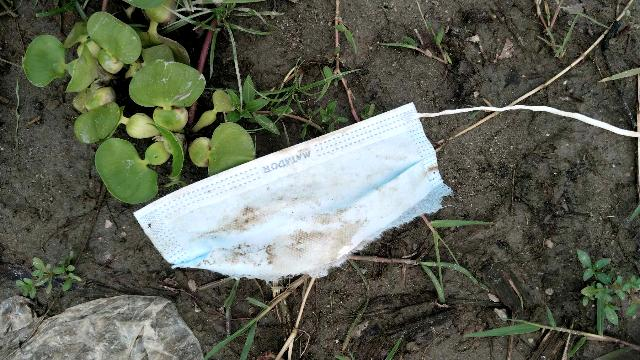mask: (104, 99, 500, 286)
